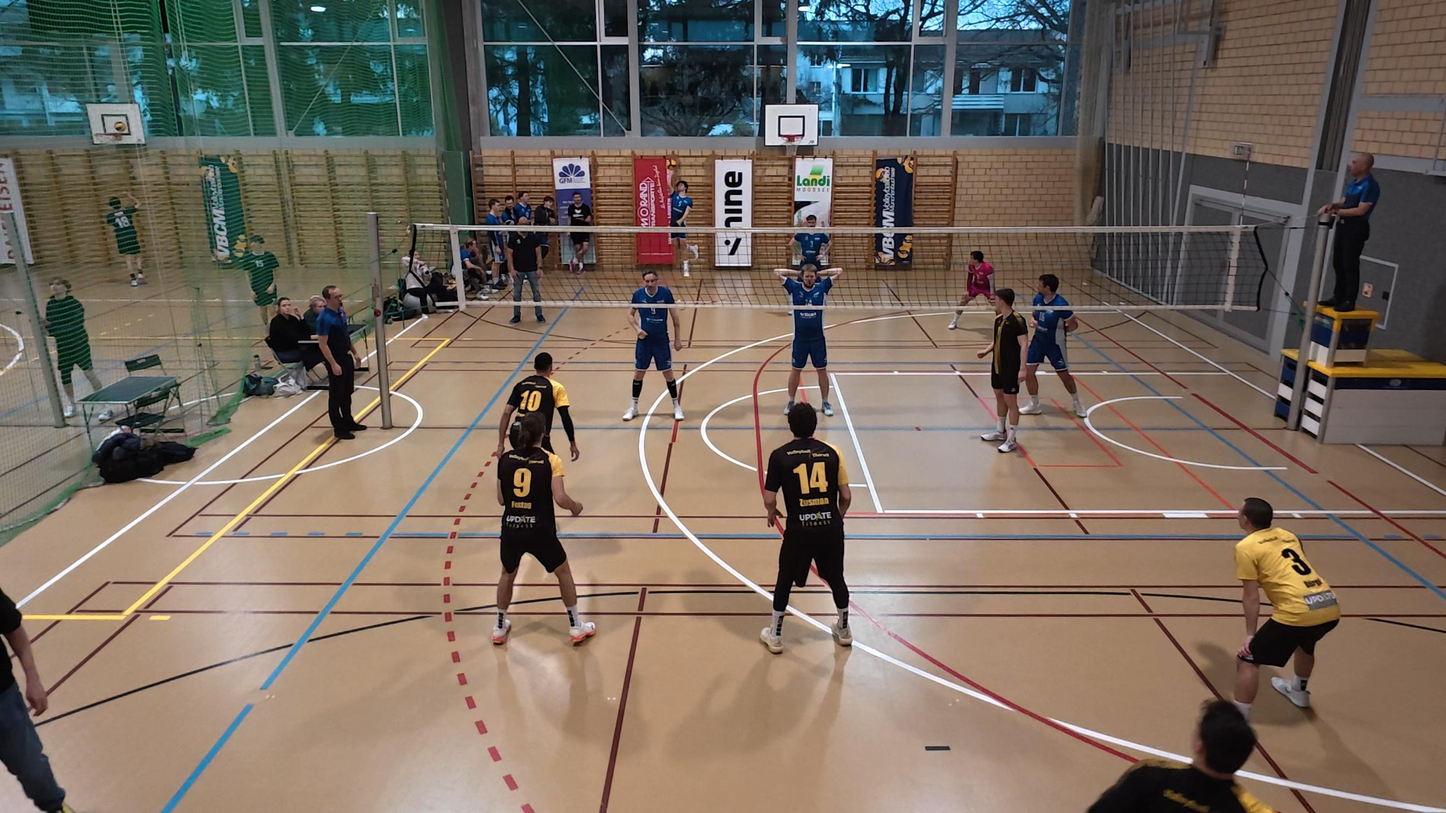battuta: (660, 158, 701, 287)
